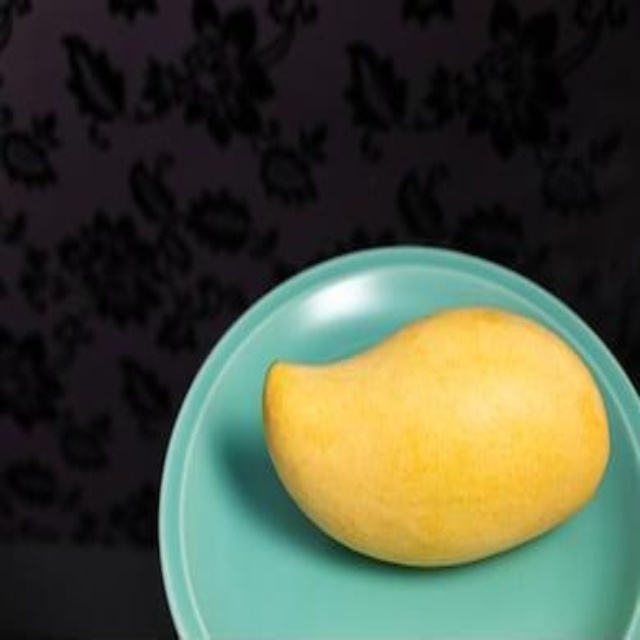mango: (268, 316, 605, 567)
